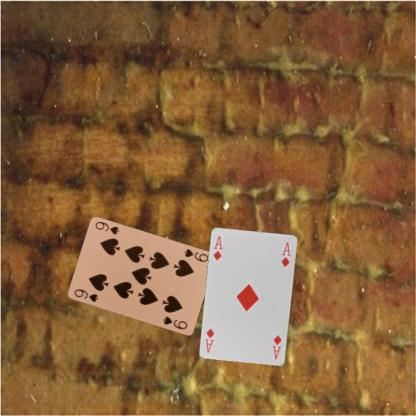9s: (71, 286, 99, 304), (181, 246, 209, 264)
Ad: (270, 333, 283, 360), (211, 233, 223, 262)
